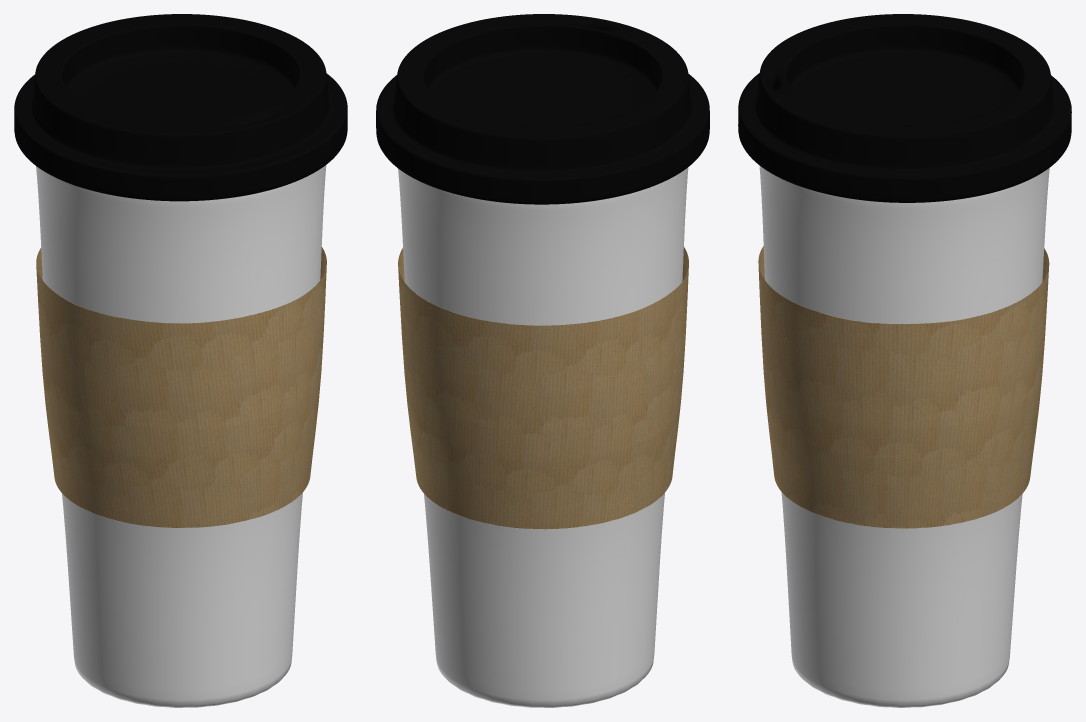
The model's file is to-go_coffee_cup.glb.
The picture shows the model from 3 angles, left to right: view 1: azimuth 30°, elevation 25°; view 2: azimuth 150°, elevation 25°; view 3: azimuth 270°, elevation 25°; orthographic projection.
Visible parts, largest first — view 1: Object_4, Object_2, Object_3; view 2: Object_4, Object_2, Object_3; view 3: Object_4, Object_2, Object_3.
Boxes of the visible parts, x1,y1,x2,y2 form: Object_4: (36,165,326,707); Object_2: (36,247,326,527); Object_3: (14,14,347,201); Object_4: (398,167,688,707); Object_2: (398,247,688,529); Object_3: (376,14,709,204); Object_4: (759,165,1049,707); Object_2: (758,246,1049,528); Object_3: (738,14,1071,202).
Bounding box in the file's own units: 1.17 × 2.28 × 1.17.
Materials: 3 (1 with a texture image).
